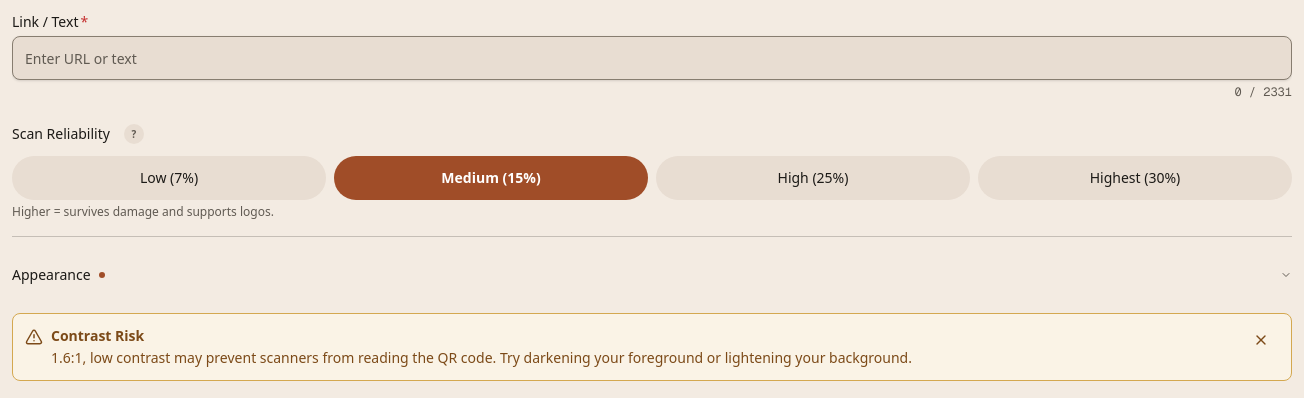
Test: color contrast warning › hides the warning after the dismiss button is clicked
Click the button named "Dismiss contrast warning" at (1261, 340), box x1=1243 y1=322 x2=1279 y2=358
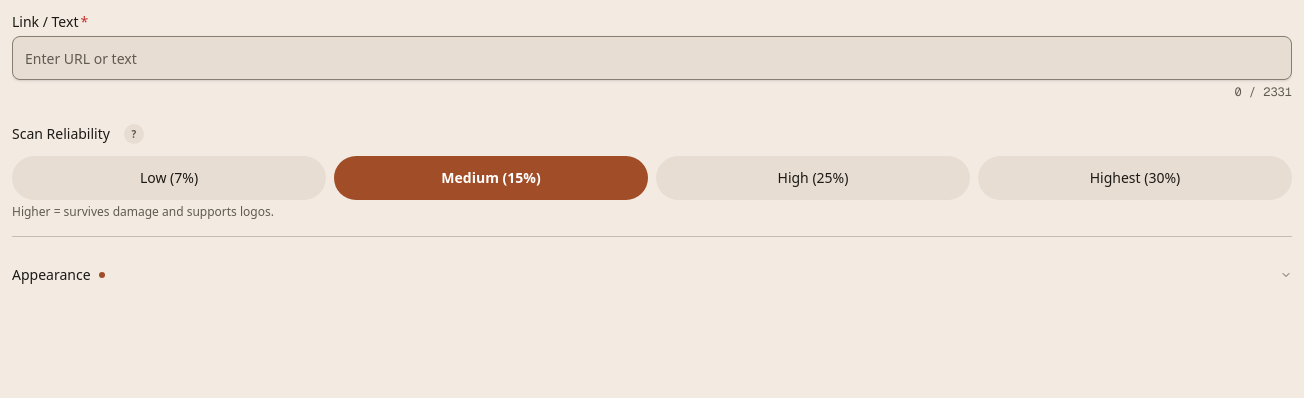
Expected: the message is gone
